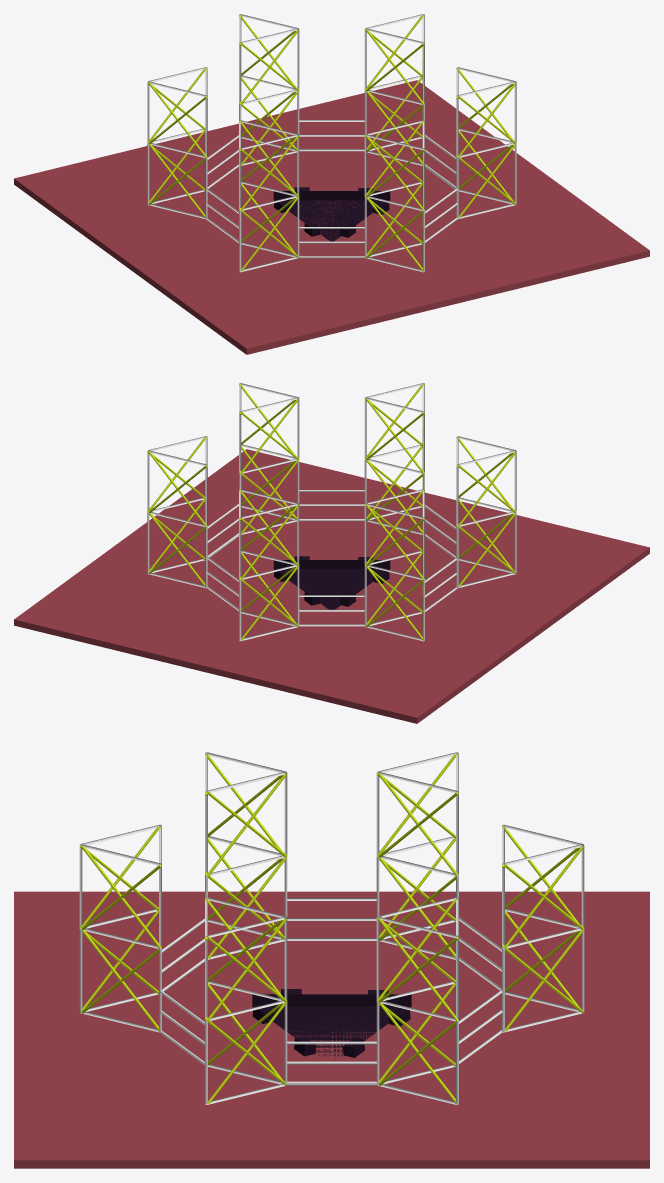
Rendered from environment.glb.
The picture shows the model from 3 angles, top to bottom: view 1: azimuth 30°, elevation 25°; view 2: azimuth 150°, elevation 25°; view 3: azimuth 270°, elevation 25°; orthographic projection. The views are drawn at different scales.
Parts seen in each view (by area): view 1: floor, base; view 2: floor, base; view 3: floor, base.
Part boxes in pixels (x1,y1,x2,y2): floor: (14, 80, 649, 354); base: (273, 191, 390, 241); floor: (14, 449, 649, 723); base: (273, 560, 390, 609); floor: (14, 891, 649, 1168); base: (252, 994, 411, 1059).
Size of the model in its own units: 13.84 by 4.57 by 13.84.
